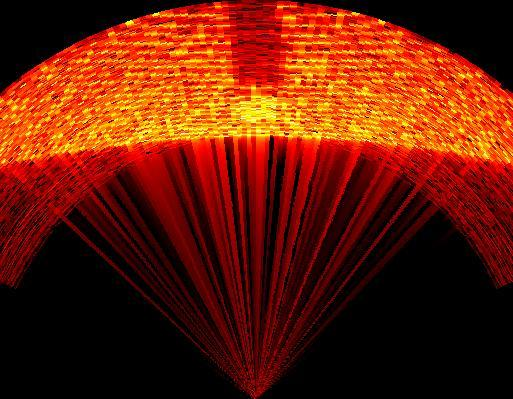box_crate: (224, 0, 283, 86)
